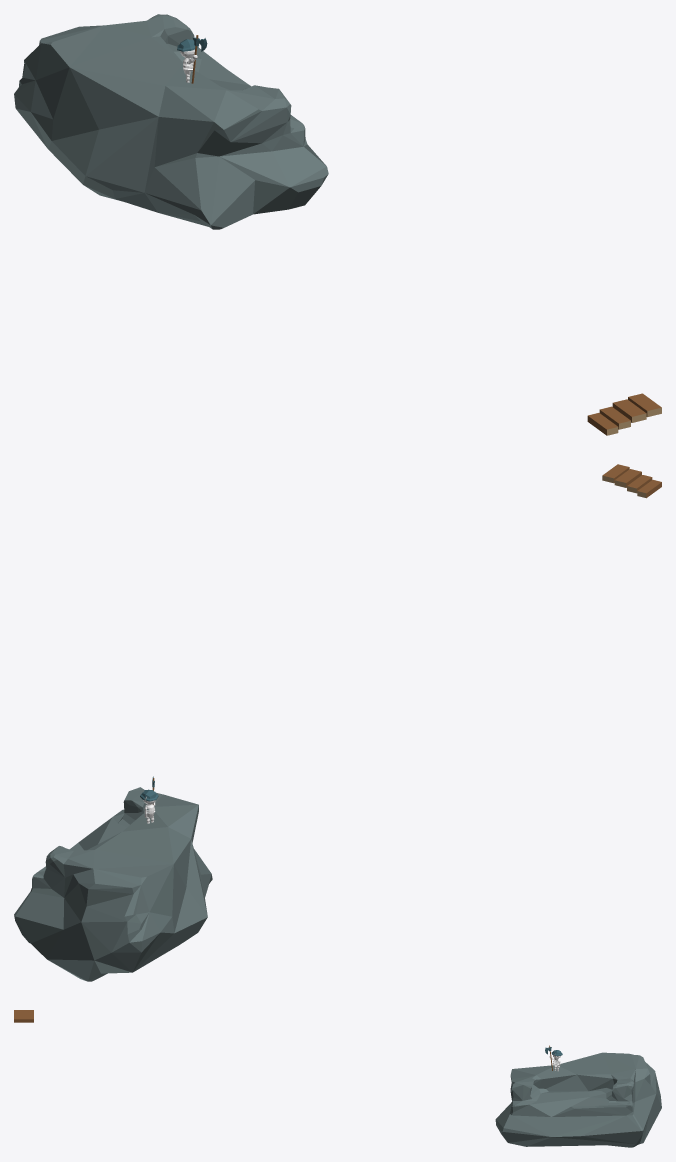
3 renders of one model, top to bottom at view 1: azimuth 30°, elevation 25°; view 2: azimuth 150°, elevation 25°; view 3: azimuth 270°, elevation 25°, orthographic. The views are drawn at different scales.
Parts seen in each view (by area): view 1: Box280_rock_0, Plane471_brown_0; view 2: Box280_rock_0, Plane471_brown_0; view 3: Box280_rock_0, Plane471_brown_0.
Boxes of the visible parts, x1,y1,x2,y2 form: Box280_rock_0: (14, 14, 328, 229); Plane471_brown_0: (587, 393, 661, 435); Box280_rock_0: (14, 787, 212, 981); Plane471_brown_0: (602, 464, 661, 497); Box280_rock_0: (495, 1052, 661, 1147); Plane471_brown_0: (14, 1010, 33, 1022).
Bounding box in the file's own units: 920 × 888 × 4840.
